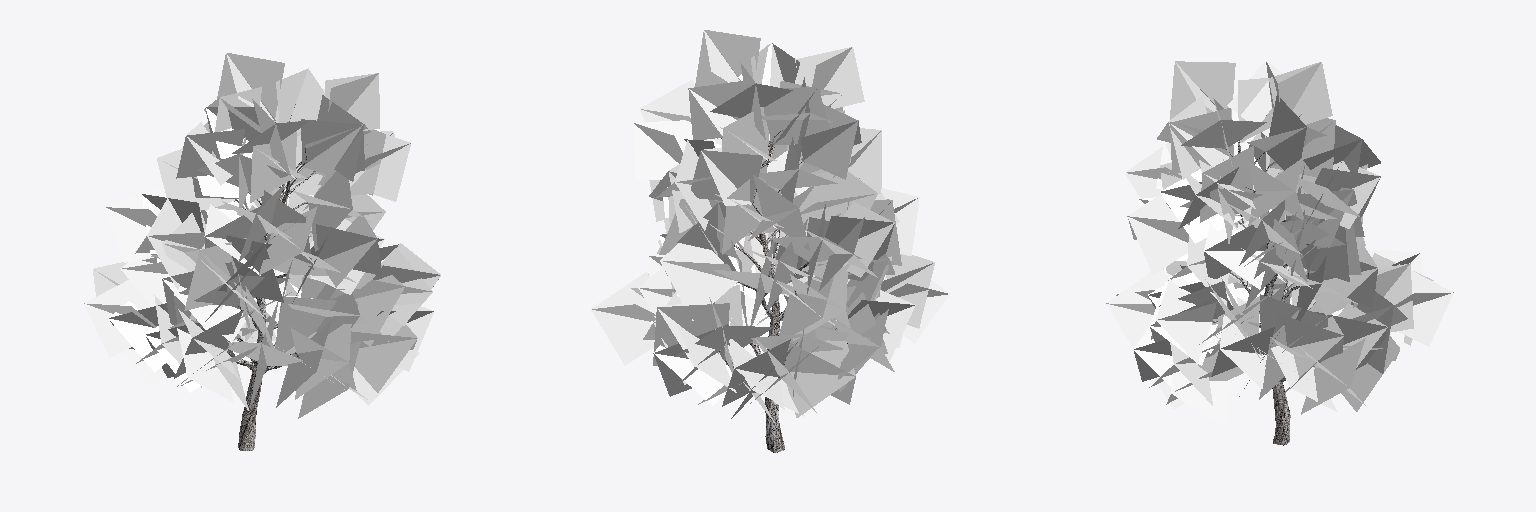
3 renders of one model, left to right at view 1: azimuth 30°, elevation 25°; view 2: azimuth 150°, elevation 25°; view 3: azimuth 270°, elevation 25°, orthographic.
Visible parts, largest first — view 1: tree; view 2: tree; view 3: tree.
Part boxes in pixels (x1,y1,x2,y2): tree: (84,53,440,450); tree: (591,30,949,452); tree: (1106,61,1453,445).
Size of the model in its own units: 70.4 by 89.9 by 74.44.
3 materials, 1 textured.